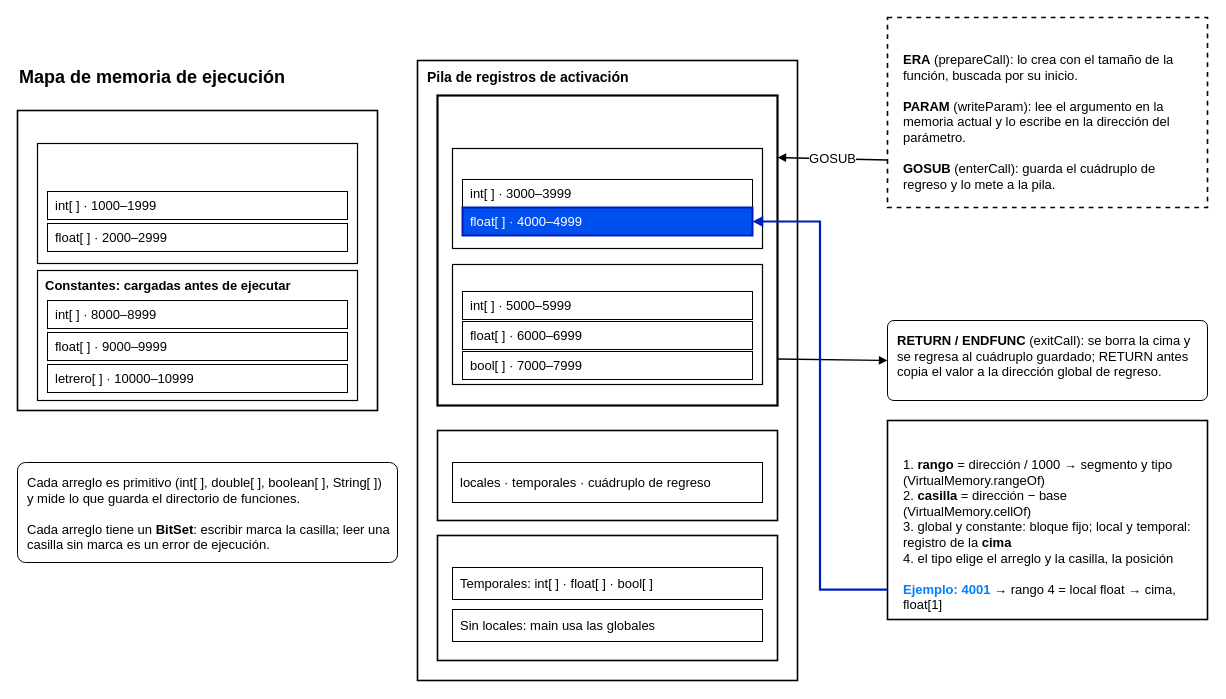
This 1226x699 diagram has some shape labels left out. Here are the shapes that lost their labels. From the top down, the box of each, then its label:
(886, 16, 1208, 208): Registro pendiente (entre ERA y GOSUB)
(36, 142, 358, 264): Global: variables globales y direcciones de regreso
(451, 147, 763, 249): Locales (parámetros primero)
(16, 109, 378, 411): Memoria fija (toda la ejecución)
(436, 94, 778, 406): Cima: llamada actual (guarda su cuádruplo de regreso)
(451, 263, 763, 385): Temporales
(436, 429, 778, 521): Llamada anterior
(886, 419, 1208, 620): Cómo una dirección indexa la memoria
(436, 534, 778, 661): main (fondo de la pila)
